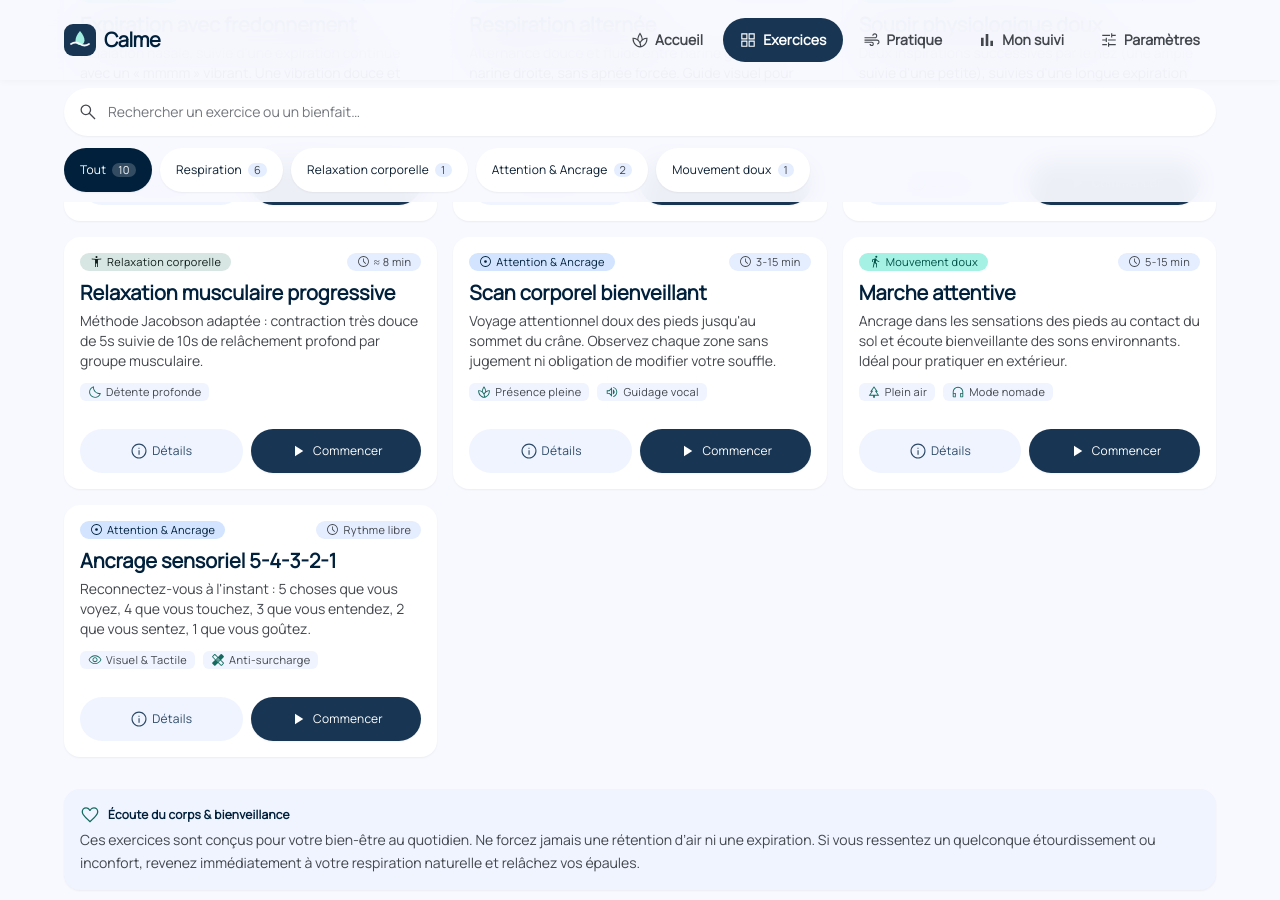
Test: exercise library › "Commencer" on a card opens the practice screen
(page scrolled)
Step 1. Click the link with aria-label "Commencer : Marche attentive" → (1115, 451), box 1029,429 -> 1200,473
(page scrolled)
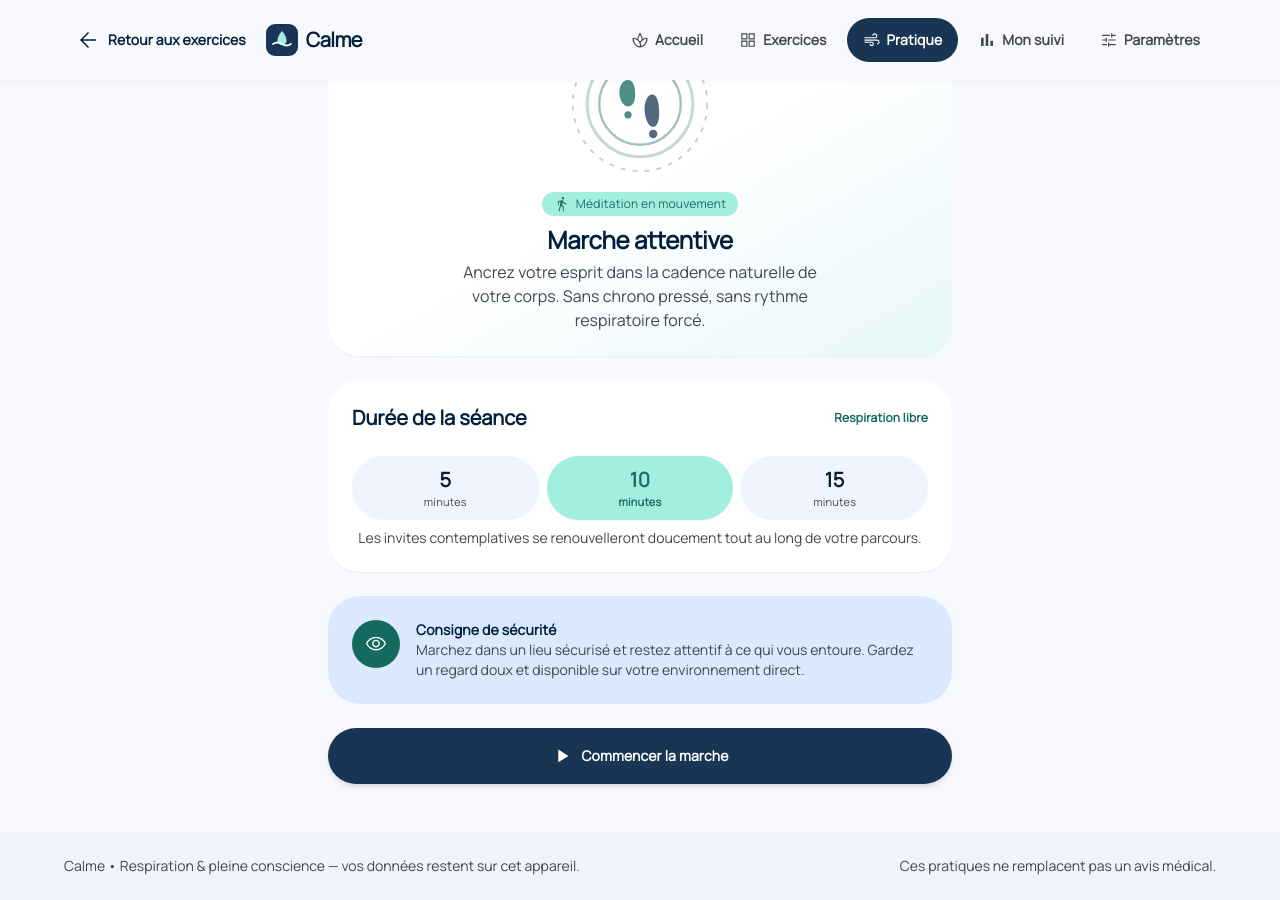
Check: the button "Commencer la marche" is shown, box 328,728 -> 952,784
